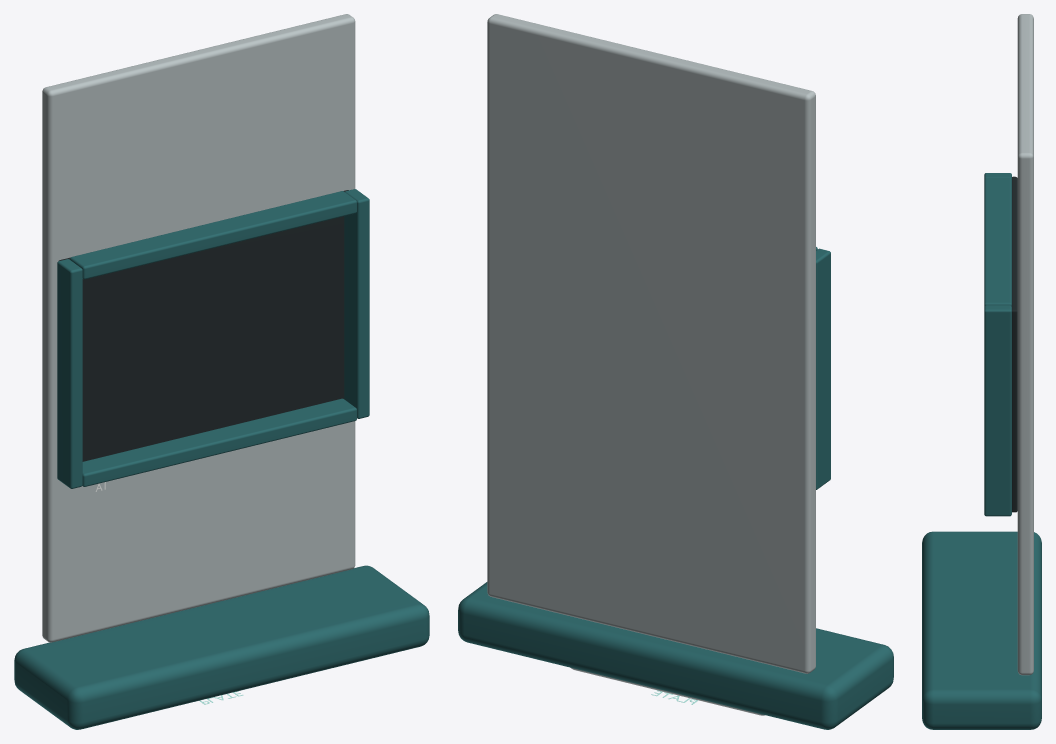
File: plate_drawer.glb
3 views of the same model, side by side, from view 1: azimuth 30°, elevation 25°; view 2: azimuth 150°, elevation 25°; view 3: azimuth 270°, elevation 25° (orthographic). The views are drawn at different scales.
Visible parts, largest first — view 1: drawer_floor, plate_seat_floor, drawer_front, plate_end_back, plate_end_front, plate_side_left, plate_side_right; view 2: drawer_floor, drawer_front, plate_side_left; view 3: drawer_front, drawer_floor, plate_side_right, plate_end_back, plate_seat_floor.
Part boxes in pixels (left/top/right/bottom): drawer_floor: left=42, top=14, right=355, bottom=642; plate_seat_floor: left=59, top=190, right=348, bottom=461; drawer_front: left=14, top=565, right=429, bottom=729; plate_end_back: left=70, top=191, right=356, bottom=279; plate_end_front: left=82, top=398, right=356, bottom=486; plate_side_left: left=57, top=259, right=82, bottom=488; plate_side_right: left=344, top=189, right=369, bottom=418; drawer_floor: left=487, top=14, right=815, bottom=673; drawer_front: left=458, top=582, right=893, bottom=729; plate_side_left: left=816, top=248, right=830, bottom=489; drawer_front: left=922, top=531, right=1041, bottom=729; drawer_floor: left=1017, top=14, right=1033, bottom=675; plate_side_right: left=984, top=305, right=1011, bottom=516; plate_end_back: left=984, top=177, right=1011, bottom=306; plate_seat_floor: left=1011, top=176, right=1017, bottom=512.
Size of the model in its own units: 0.171 by 0.285 by 0.052.
